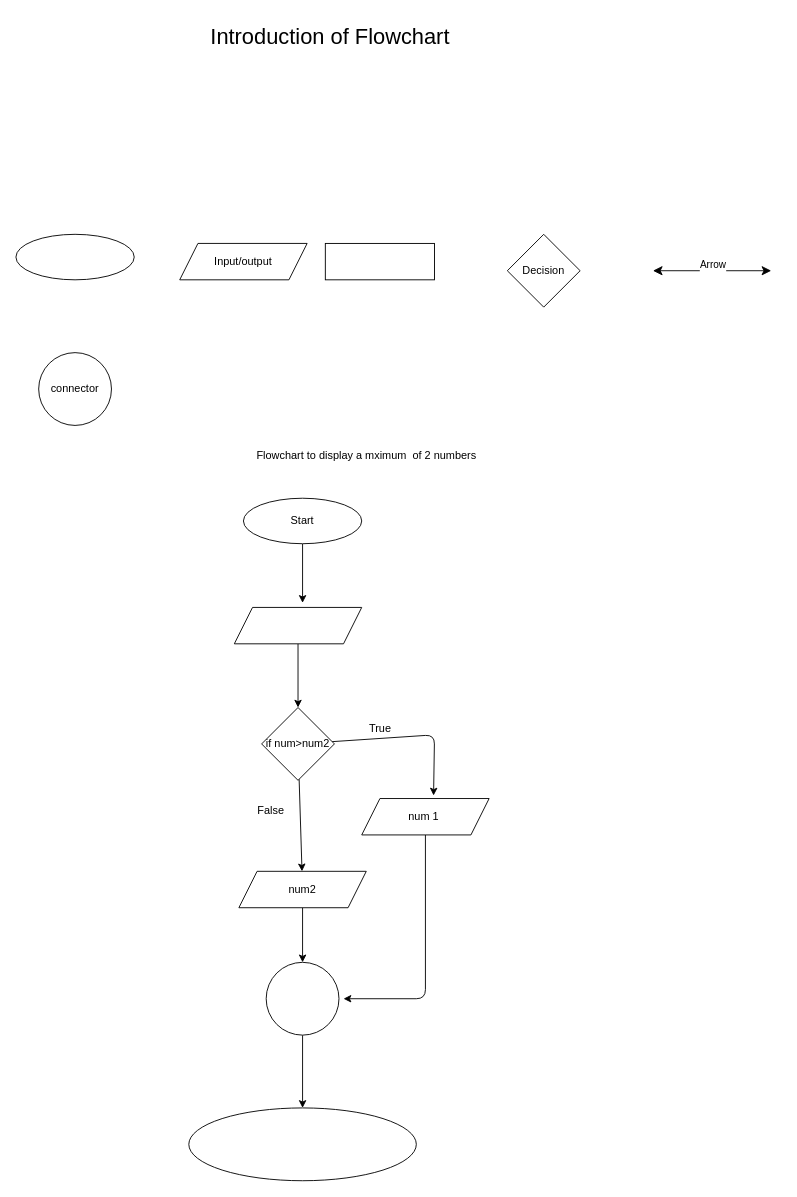
This 797x1197 diagram has some shape labels left out. The shapes that lost their labels are listed below. From the top down, each one's centre as x and y in pixels, then its label:
the point at 74,256: Terminal
the point at 379,261: Process bar
the point at 297,625: input 2 number
the point at 302,1144: stop
